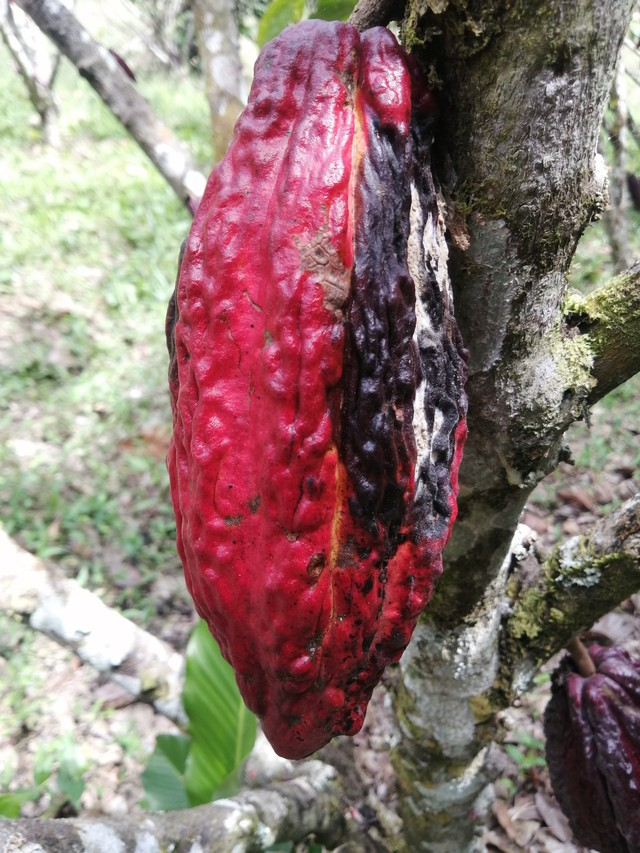moniliophthora roreri: (129, 9, 493, 776)
